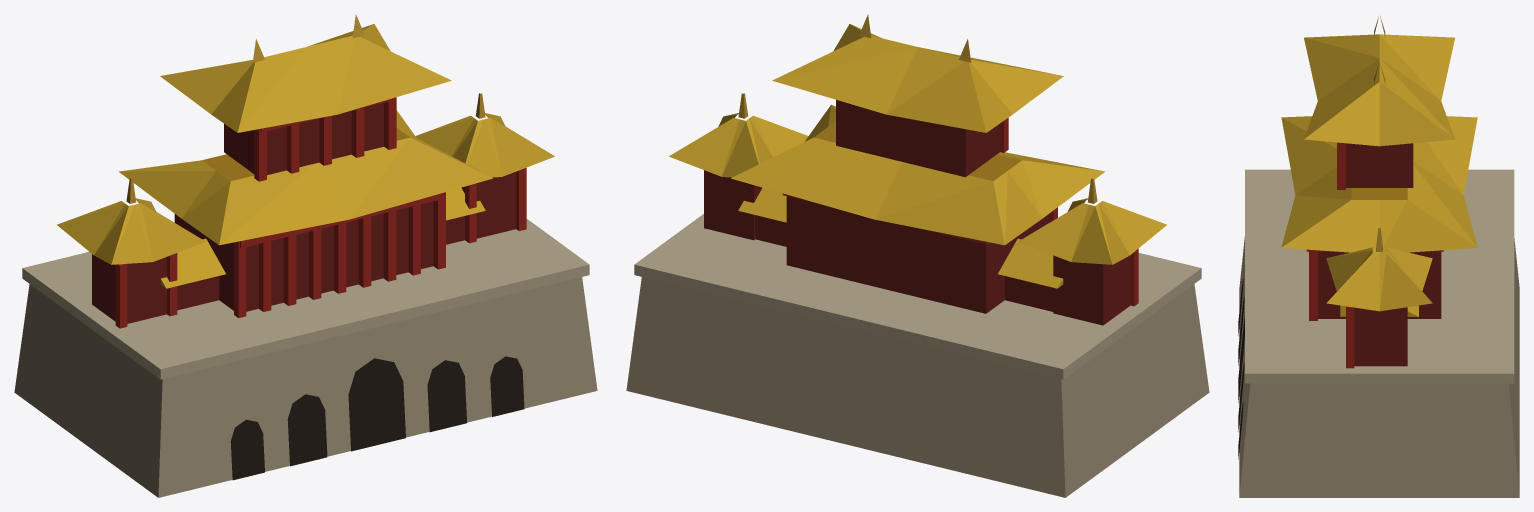
The model's file is porte.glb.
The picture shows the model from 3 angles, left to right: view 1: azimuth 30°, elevation 25°; view 2: azimuth 150°, elevation 25°; view 3: azimuth 270°, elevation 25°; orthographic projection. The views are drawn at different scales.
Visible parts, largest first — view 1: porte; view 2: porte; view 3: porte.
Boxes of the visible parts, <box> form: porte: <box>14,14,597,497</box>; porte: <box>626,14,1209,497</box>; porte: <box>1238,16,1519,497</box>.
Bounding box in the file's own units: 1.78 × 1.4 × 1.
